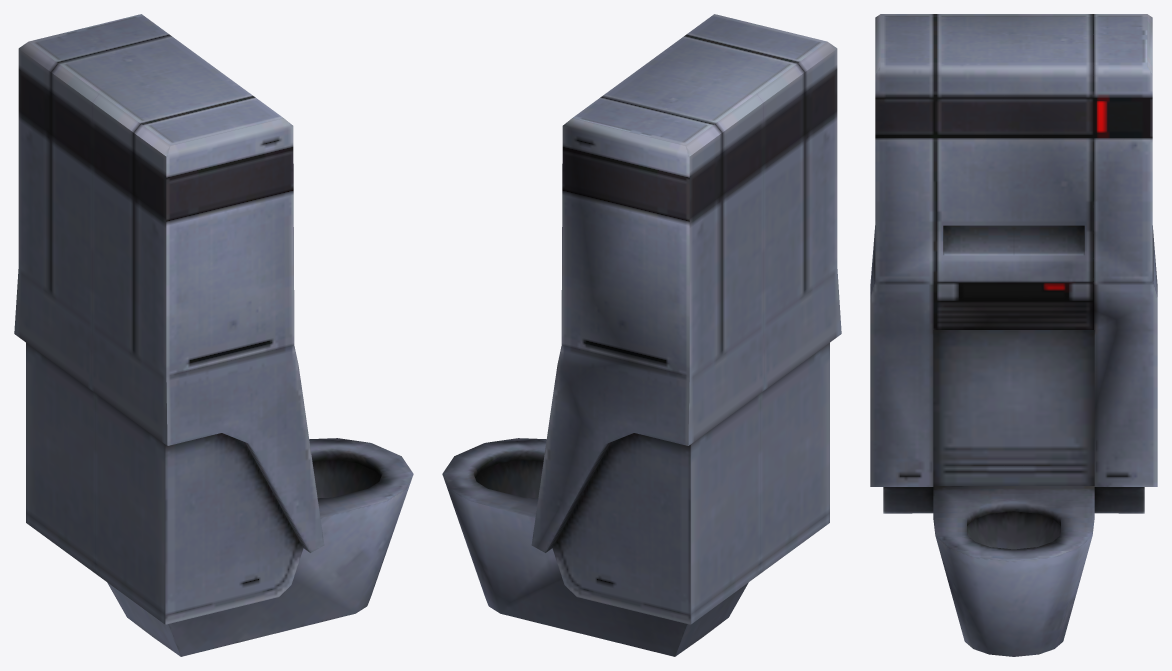
Rendered from Toilet02.FBX.
3 views of the same model, side by side, from view 1: azimuth 30°, elevation 25°; view 2: azimuth 150°, elevation 25°; view 3: azimuth 270°, elevation 25° (orthographic). The views are drawn at different scales.
Parts seen in each view (by area): view 1: Toilet02; view 2: Toilet02; view 3: Toilet02.
Boxes of the visible parts, x1,y1,x2,y2 form: Toilet02: [14, 14, 413, 656]; Toilet02: [442, 14, 841, 656]; Toilet02: [870, 14, 1157, 656].
Bounding box in the file's own units: 0.7005 × 1.2 × 0.5982.
